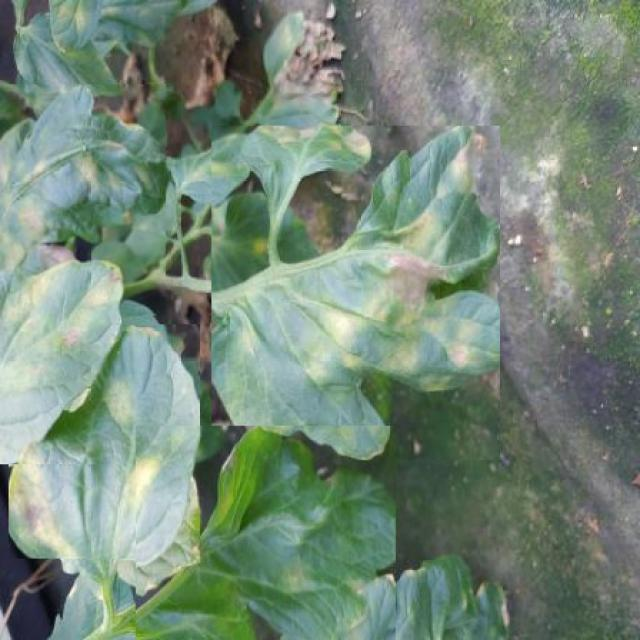Leaf Mold: (212, 126, 499, 460), (135, 425, 395, 640), (8, 324, 200, 559), (0, 85, 166, 316), (0, 257, 121, 464)
